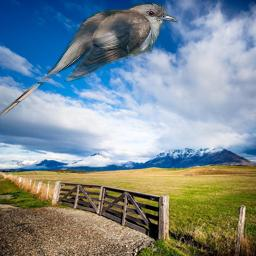Cuckoo: (0, 2, 178, 117)
